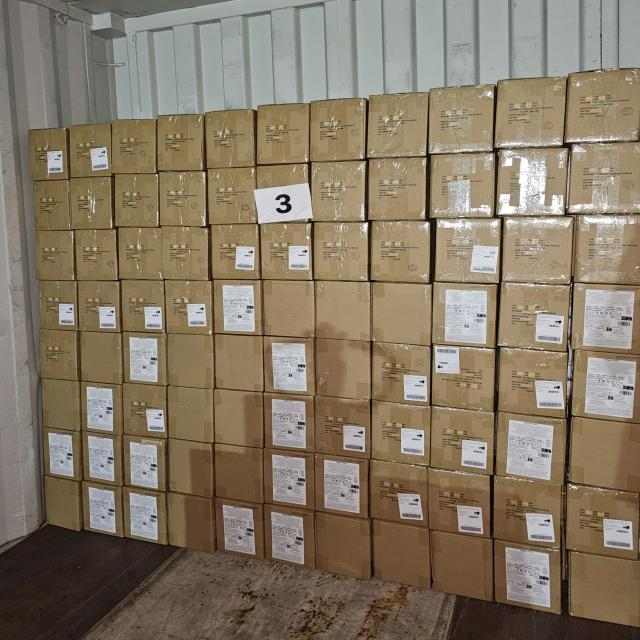Carton: (565, 548, 638, 628), (564, 483, 637, 562), (568, 417, 638, 496), (564, 72, 638, 146), (493, 540, 563, 615), (494, 414, 566, 486), (500, 346, 570, 418), (570, 145, 640, 217), (491, 480, 562, 550), (499, 78, 568, 150), (570, 285, 638, 358), (573, 352, 640, 426), (502, 280, 572, 350), (500, 150, 571, 218), (501, 215, 572, 282), (572, 214, 638, 285), (426, 467, 490, 539), (429, 529, 492, 601), (428, 404, 492, 474), (428, 152, 495, 218), (428, 90, 494, 156), (438, 217, 503, 284), (431, 284, 496, 350), (431, 344, 496, 408), (372, 460, 431, 530), (371, 523, 429, 594), (369, 284, 431, 347), (369, 222, 430, 286), (367, 96, 427, 161), (369, 398, 428, 464), (366, 160, 426, 224), (315, 516, 372, 582), (373, 341, 432, 404), (316, 394, 372, 458), (318, 336, 374, 399), (316, 283, 373, 344), (313, 100, 369, 162), (316, 455, 371, 518), (314, 162, 369, 225), (316, 223, 372, 283), (258, 104, 311, 165), (264, 508, 316, 570), (257, 168, 312, 226), (263, 280, 317, 338), (265, 335, 317, 395), (260, 224, 312, 283), (264, 393, 315, 452), (264, 452, 315, 511), (212, 391, 262, 450), (213, 280, 264, 337), (206, 110, 256, 168), (207, 170, 257, 227), (213, 333, 262, 391), (156, 114, 204, 172), (214, 446, 262, 504), (216, 498, 264, 556), (210, 226, 259, 282), (169, 498, 217, 555), (158, 173, 206, 229), (164, 281, 212, 337), (168, 333, 216, 388), (113, 174, 159, 230), (164, 229, 212, 282), (122, 278, 167, 334), (170, 443, 215, 499), (171, 388, 217, 442), (123, 384, 168, 438), (78, 331, 123, 385), (114, 120, 158, 175), (67, 122, 110, 178), (75, 228, 120, 280), (77, 282, 122, 334), (119, 229, 163, 282), (123, 332, 167, 385), (123, 491, 167, 544), (123, 436, 166, 490), (79, 383, 122, 435), (70, 179, 113, 230), (39, 281, 80, 333), (40, 330, 80, 382), (82, 482, 122, 534), (42, 381, 82, 433), (31, 126, 69, 180), (82, 436, 122, 487), (45, 478, 82, 531), (31, 180, 70, 230), (38, 233, 77, 282), (46, 426, 82, 479)
